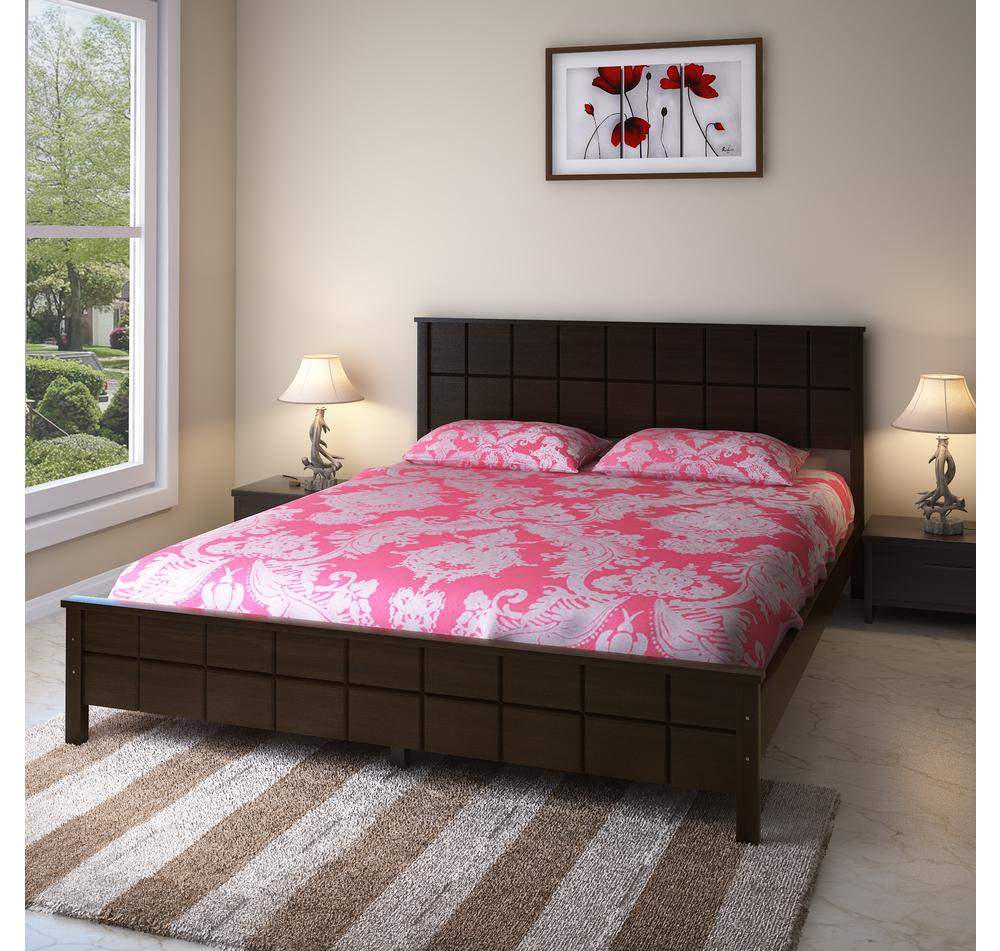bed: (42, 305, 923, 861)
